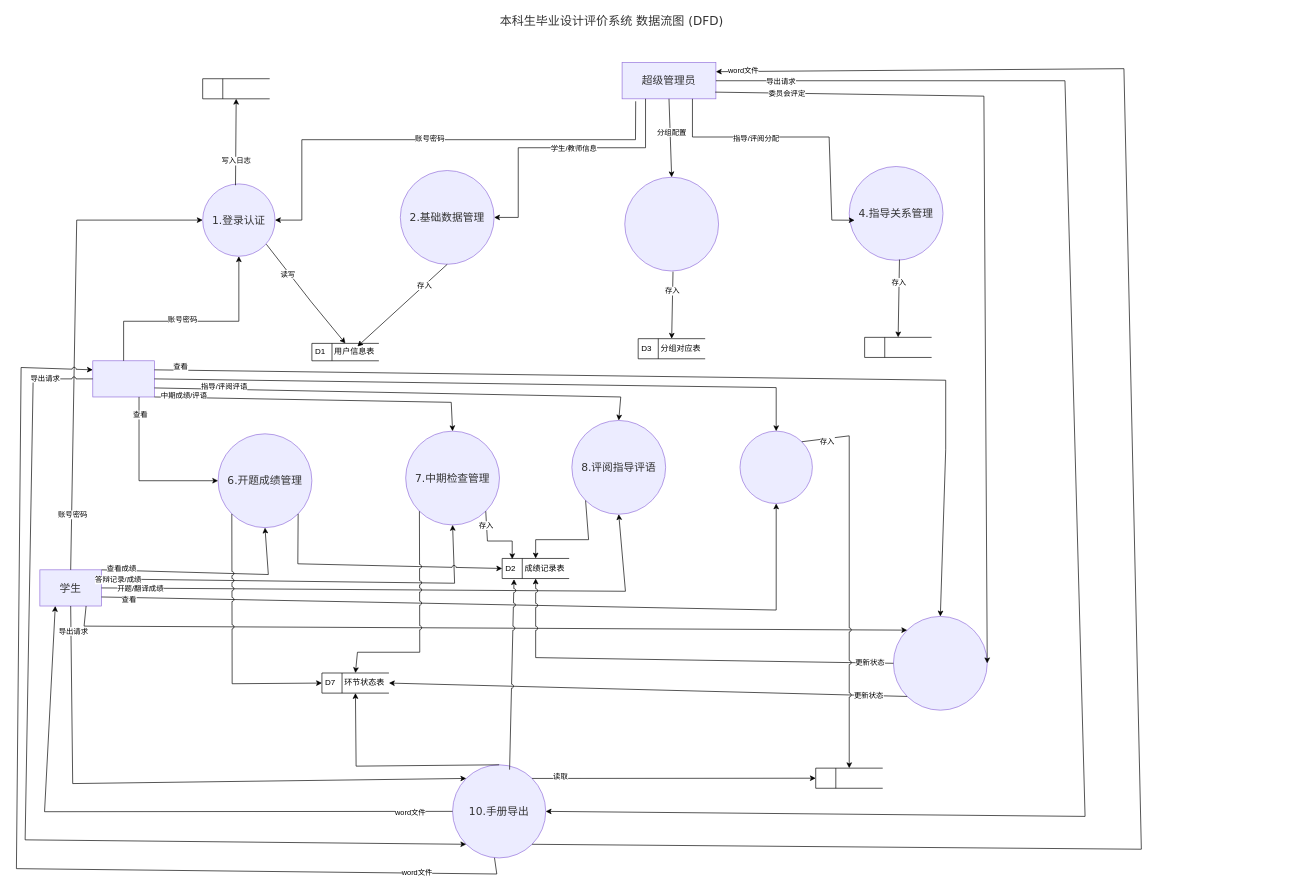
Some shapes in this 1302 by 891 pixel diagram are drawn without their labels. Here are the shapes that lost their labels. From the top down, the centre of each, then its label:
(236,88): D4 操作日志表
(671,224): 3.分组对应管理
(898,347): D5 师生关系表
(123,378): 教师
(775,467): 5.文档管理
(940,663): 9.答辩环节管理
(849,777): D6 文档表
